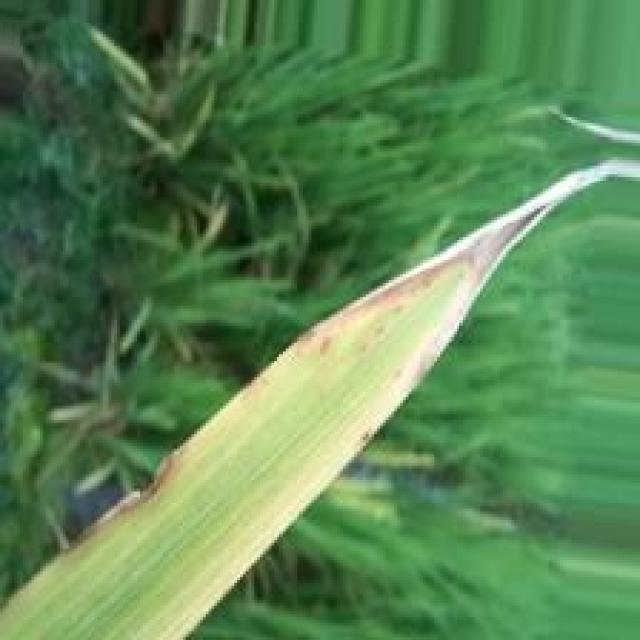Rice False Smut: (185, 201, 550, 620)
